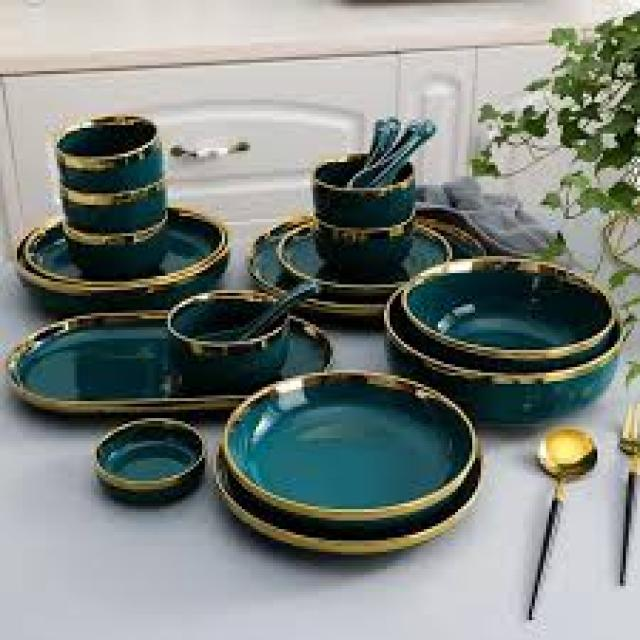Plate: (210, 366, 484, 528), (390, 249, 622, 389), (56, 112, 187, 260)
